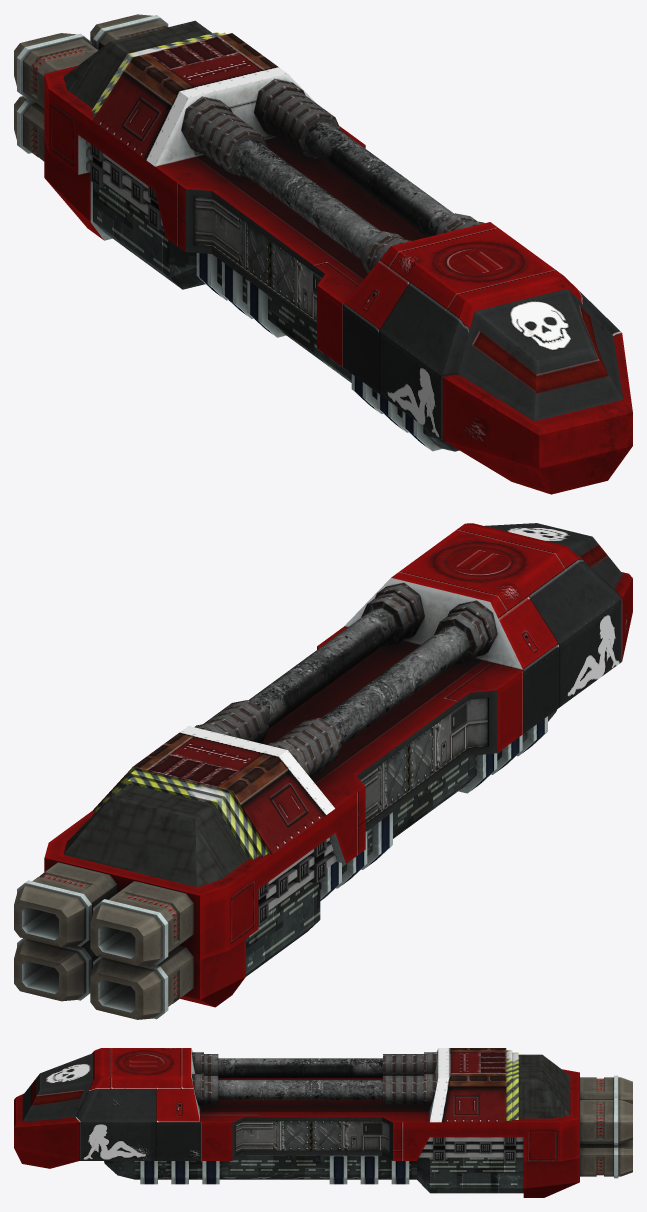
The model's file is rhino_pirate.gltf.
3 renders of one model, top to bottom at view 1: azimuth 30°, elevation 25°; view 2: azimuth 150°, elevation 25°; view 3: azimuth 270°, elevation 25°, orthographic. The views are drawn at different scales.
Visible parts, largest first — view 1: base; view 2: base; view 3: base.
Part boxes in pixels (box(x1,y1,x2,y2)): base: box(14, 14, 632, 494); base: box(14, 523, 632, 1019); base: box(14, 1048, 632, 1197).
Size of the model in its own units: 1.73 by 1.92 by 8.45.
Materials: 1 (1 with a texture image).
